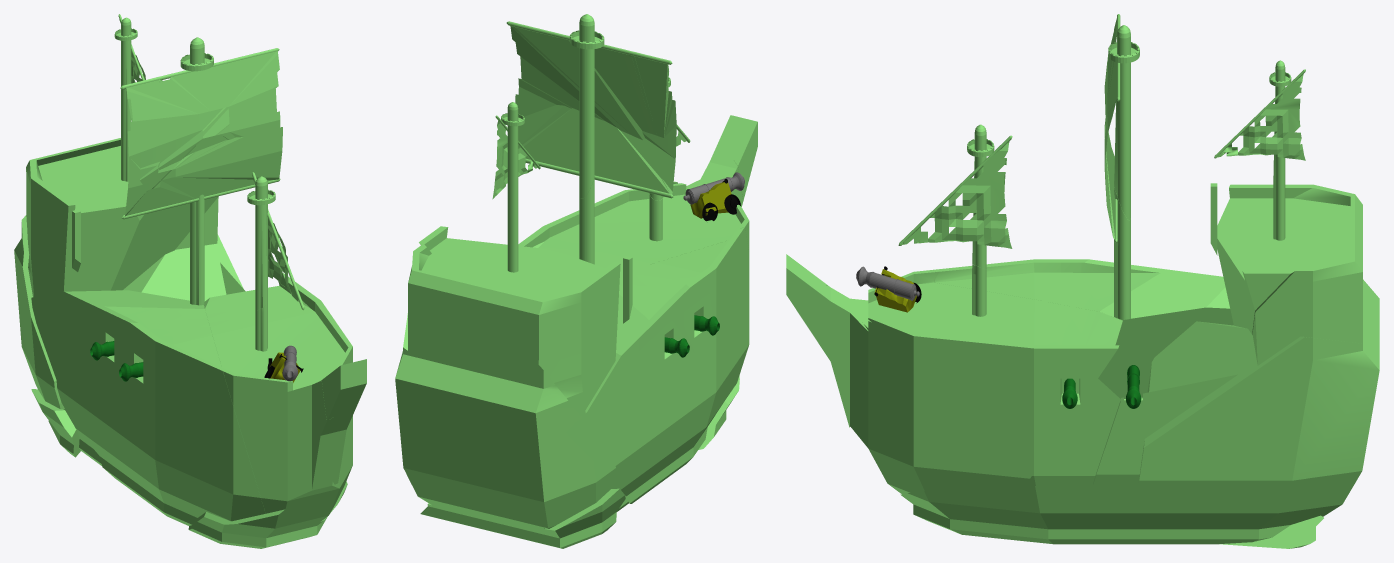
The model's file is BarcoFantasmaDestruido.fbx.
The picture shows the model from 3 angles, left to right: view 1: azimuth 30°, elevation 25°; view 2: azimuth 150°, elevation 25°; view 3: azimuth 270°, elevation 25°; orthographic projection. The views are drawn at different scales.
Parts seen in each view (by area): view 1: BarcoFantasma_cell.002, BarcoFantasma_cell.003, BarcoFantasma_cell.029, BarcoFantasma_cell.011_cell.014, BarcoFantasma_cell.011_cell.019, BarcoFantasma_cell.011_cell.021, BarcoFantasma_cell.011_cell.004, BarcoFantasma_cell.011_cell.020, BarcoFantasma_cell.010, BarcoFantasma_cell.001, BarcoFantasma_cell.031, BarcoFantasma_cell.007 (+7 smaller); view 2: BarcoFantasma_cell.011_cell.019, BarcoFantasma_cell.002, BarcoFantasma_cell.029, BarcoFantasma_cell.011_cell.014, BarcoFantasma_cell.003, BarcoFantasma_cell.011_cell.004, BarcoFantasma_cell.011_cell.018, BarcoFantasma_cell.034, BarcoFantasma_cell.031, BarcoFantasma_cell.011_cell.009, BarcoFantasma_cell.007, BarcoFantasma_cell.005 (+9 smaller); view 3: BarcoFantasma_cell.003, BarcoFantasma_cell.011_cell.004, BarcoFantasma_cell.011_cell.009, BarcoFantasma_cell.002, BarcoFantasma_cell.011_cell.014, BarcoFantasma_cell.011_cell.019, BarcoFantasma_cell.011_cell.020, BarcoFantasma_cell.006, BarcoFantasma_cell.011_cell.016, BarcoFantasma_cell.011_cell.021, BarcoFantasma_cell.005, BarcoFantasma_cell.034 (+8 smaller).
Part boxes in pixels (bbox=[...]): BarcoFantasma_cell.002: bbox=[31, 290, 274, 545]; BarcoFantasma_cell.003: bbox=[204, 273, 352, 538]; BarcoFantasma_cell.029: bbox=[124, 51, 282, 216]; BarcoFantasma_cell.011_cell.014: bbox=[26, 141, 218, 297]; BarcoFantasma_cell.011_cell.019: bbox=[14, 138, 218, 409]; BarcoFantasma_cell.011_cell.021: bbox=[188, 300, 333, 548]; BarcoFantasma_cell.011_cell.004: bbox=[63, 234, 243, 465]; BarcoFantasma_cell.011_cell.020: bbox=[322, 359, 366, 484]; BarcoFantasma_cell.010: bbox=[255, 176, 267, 310]; BarcoFantasma_cell.001: bbox=[190, 194, 204, 305]; BarcoFantasma_cell.031: bbox=[121, 17, 131, 181]; BarcoFantasma_cell.007: bbox=[321, 363, 360, 421]; BarcoFantasma_cell.011_cell.019: bbox=[400, 244, 615, 528]; BarcoFantasma_cell.002: bbox=[585, 227, 749, 503]; BarcoFantasma_cell.029: bbox=[510, 26, 676, 193]; BarcoFantasma_cell.011_cell.014: bbox=[419, 226, 620, 429]; BarcoFantasma_cell.003: bbox=[518, 146, 749, 274]; BarcoFantasma_cell.011_cell.004: bbox=[395, 313, 628, 529]; BarcoFantasma_cell.011_cell.018: bbox=[496, 488, 625, 548]; BarcoFantasma_cell.034: bbox=[579, 14, 594, 198]; BarcoFantasma_cell.031: bbox=[507, 102, 518, 272]; BarcoFantasma_cell.011_cell.009: bbox=[406, 474, 521, 538]; BarcoFantasma_cell.007: bbox=[723, 116, 757, 200]; BarcoFantasma_cell.005: bbox=[492, 115, 540, 199]; BarcoFantasma_cell.003: bbox=[815, 270, 1122, 494]; BarcoFantasma_cell.011_cell.004: bbox=[1138, 321, 1379, 482]; BarcoFantasma_cell.011_cell.009: bbox=[900, 478, 1357, 544]; BarcoFantasma_cell.002: bbox=[930, 259, 1233, 398]; BarcoFantasma_cell.011_cell.014: bbox=[1217, 184, 1362, 334]; BarcoFantasma_cell.011_cell.019: bbox=[1252, 234, 1379, 367]; BarcoFantasma_cell.011_cell.020: bbox=[786, 263, 871, 427]; BarcoFantasma_cell.006: bbox=[899, 135, 1012, 248]; BarcoFantasma_cell.011_cell.016: bbox=[1093, 374, 1237, 484]; BarcoFantasma_cell.011_cell.021: bbox=[1024, 379, 1120, 486]; BarcoFantasma_cell.005: bbox=[1214, 69, 1305, 160]; BarcoFantasma_cell.034: bbox=[1114, 25, 1130, 219].
Size of the model in its own units: 4.72 by 9.82 by 10.92.
